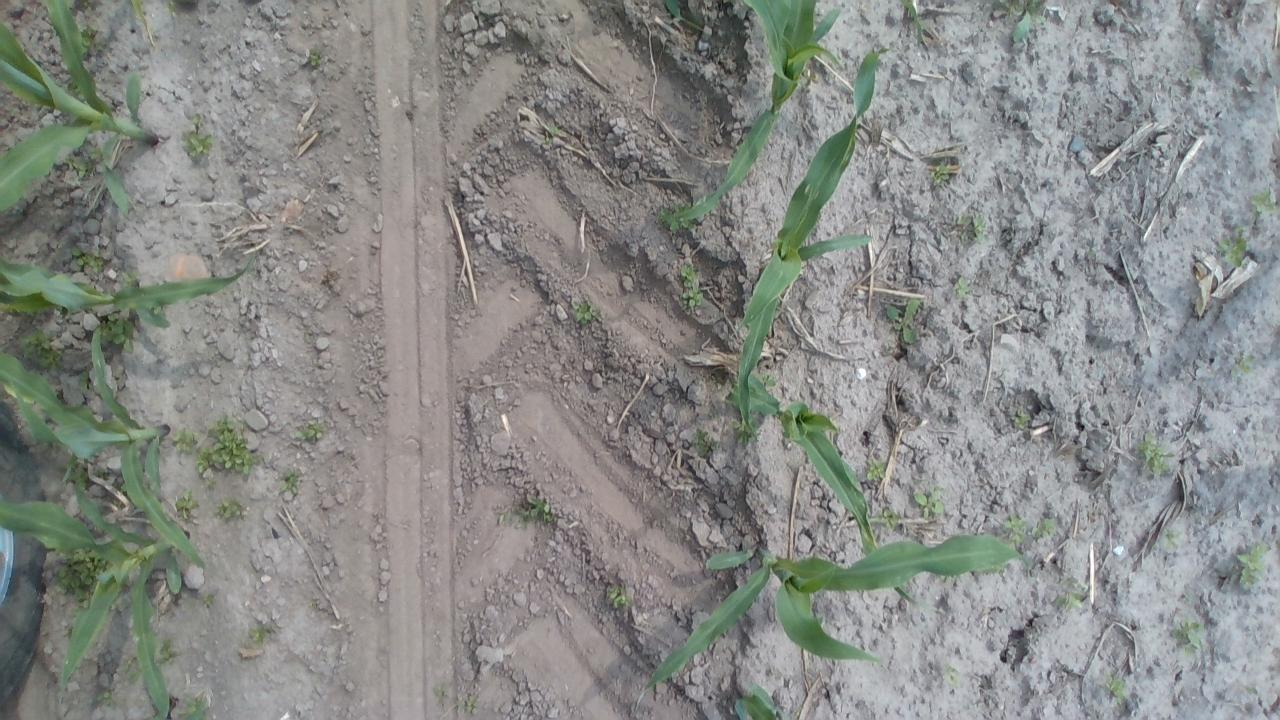Maize: (635, 530, 1035, 718), (730, 47, 896, 442), (720, 370, 950, 616), (0, 326, 205, 568), (0, 470, 190, 718), (656, 2, 854, 231), (2, 1, 163, 225), (0, 255, 256, 332)
Weeds: (194, 415, 260, 482), (53, 548, 110, 606), (498, 496, 558, 530), (1000, 1, 1046, 44), (884, 297, 924, 345), (1234, 540, 1270, 590), (1134, 434, 1176, 476), (16, 333, 62, 371), (182, 112, 215, 161), (1216, 228, 1252, 272), (101, 312, 138, 354), (1172, 614, 1206, 658), (1052, 578, 1090, 614), (912, 485, 947, 520), (70, 244, 106, 277), (678, 262, 702, 310), (61, 454, 93, 488), (64, 150, 98, 180), (954, 213, 984, 244), (215, 496, 248, 524), (659, 208, 696, 232), (296, 420, 330, 446), (78, 23, 102, 58), (1003, 516, 1031, 546), (173, 489, 200, 520), (1250, 188, 1277, 218), (1102, 672, 1128, 703), (572, 299, 600, 327), (278, 466, 304, 496), (693, 426, 717, 457), (178, 696, 210, 719), (864, 454, 890, 482), (606, 584, 631, 613), (170, 428, 197, 454), (732, 418, 758, 445), (305, 44, 331, 71), (96, 684, 122, 710), (928, 160, 954, 186), (1229, 354, 1257, 378), (458, 690, 484, 714), (1032, 516, 1058, 540), (248, 622, 273, 646), (1009, 408, 1032, 433), (158, 636, 178, 664), (880, 506, 902, 530), (1159, 528, 1181, 552), (542, 123, 562, 147), (75, 371, 94, 396), (942, 664, 959, 690), (122, 658, 140, 682), (951, 276, 970, 298), (755, 373, 778, 390), (117, 272, 138, 290), (434, 681, 451, 700)
